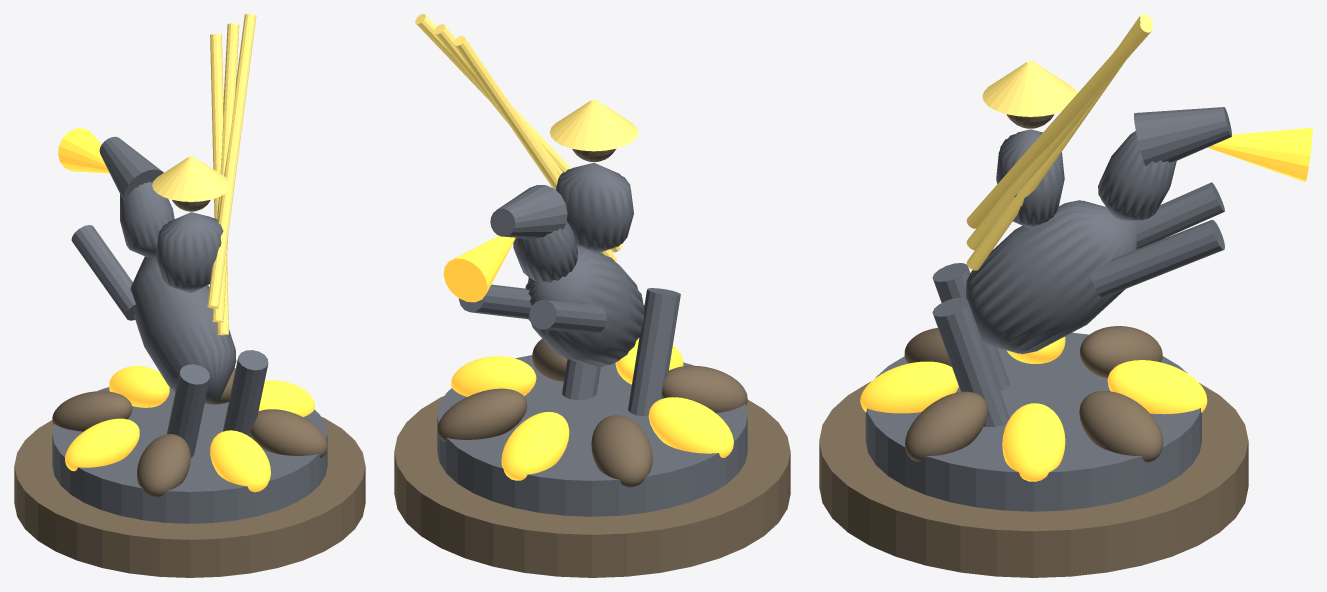
File: thanh_giong_statue.glb
3 renders of one model, left to right at view 1: azimuth 30°, elevation 25°; view 2: azimuth 150°, elevation 25°; view 3: azimuth 270°, elevation 25°, orthographic. The views are drawn at different scales.
Visible parts, largest first — view 1: Cylinder, Cylinder.001, Cylinder.002, Cone.003, Cylinder.009, Sphere.007, Cone, Sphere.006, Sphere.004, Sphere.005, Cylinder.005, Cylinder.004 (+9 smaller); view 2: Cylinder, Cylinder.001, Cylinder.002, Cone.003, Cylinder.003, Sphere.004, Sphere.001, Sphere.003, Sphere.002, Cone.001, Cone.004, Sphere.005 (+11 smaller); view 3: Cylinder, Cylinder.001, Cylinder.002, Cylinder.006, Cylinder.005, Cone, Cone.001, Sphere.001, Sphere.007, Sphere.002, Sphere, Sphere.006 (+11 smaller).
Part boxes in pixels (x1,y1,x2,y2): Cylinder: [14, 416, 365, 577]; Cylinder.001: [52, 387, 327, 523]; Cylinder.002: [130, 256, 236, 402]; Cone.003: [156, 212, 223, 292]; Cylinder.009: [207, 14, 256, 308]; Sphere.007: [250, 409, 327, 457]; Cone: [120, 181, 174, 257]; Sphere.006: [210, 430, 270, 492]; Sphere.004: [65, 418, 139, 471]; Sphere.005: [137, 434, 190, 497]; Cylinder.005: [223, 350, 268, 438]; Cylinder.004: [71, 225, 135, 320]; Cylinder: [394, 396, 790, 577]; Cylinder.001: [437, 355, 747, 516]; Cylinder.002: [525, 245, 644, 367]; Cone.003: [556, 162, 633, 252]; Cylinder.003: [628, 288, 680, 416]; Sphere.004: [648, 397, 733, 457]; Sphere.001: [437, 388, 527, 441]; Sphere.003: [591, 415, 652, 487]; Sphere.002: [501, 412, 569, 480]; Cone.001: [490, 185, 567, 239]; Cone.004: [549, 99, 638, 151]; Sphere.005: [662, 365, 747, 412]; Cylinder: [819, 382, 1248, 577]; Cylinder.001: [865, 332, 1201, 511]; Cylinder.002: [965, 200, 1137, 354]; Cylinder.006: [1090, 220, 1224, 297]; Cylinder.005: [932, 297, 1009, 426]; Cone: [1098, 131, 1176, 220]; Cone.001: [1134, 107, 1231, 165]; Sphere.001: [1079, 391, 1163, 462]; Sphere.007: [905, 391, 987, 461]; Sphere.002: [1107, 360, 1207, 414]; Sphere: [1002, 403, 1065, 481]; Sphere.006: [860, 361, 958, 413].
Bounding box in the file's own units: 2.5 × 3.39 × 2.87.
